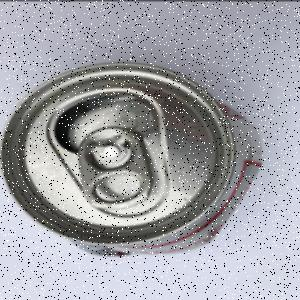Can: (2, 62, 264, 258)
